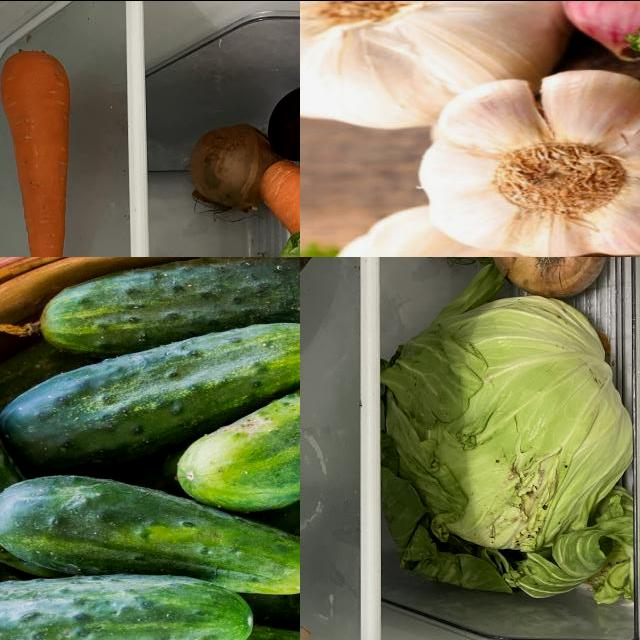cabbage: (379, 260, 640, 610)
carrot: (1, 46, 76, 257), (258, 159, 301, 245)
cucumber: (1, 317, 301, 476), (1, 479, 301, 598), (38, 257, 301, 355), (1, 573, 251, 640)
eggplant: (265, 64, 301, 171)
garlic: (428, 76, 640, 257), (301, 1, 563, 130), (301, 204, 606, 257), (565, 1, 640, 58)
onion: (187, 119, 277, 219), (488, 257, 611, 303)
